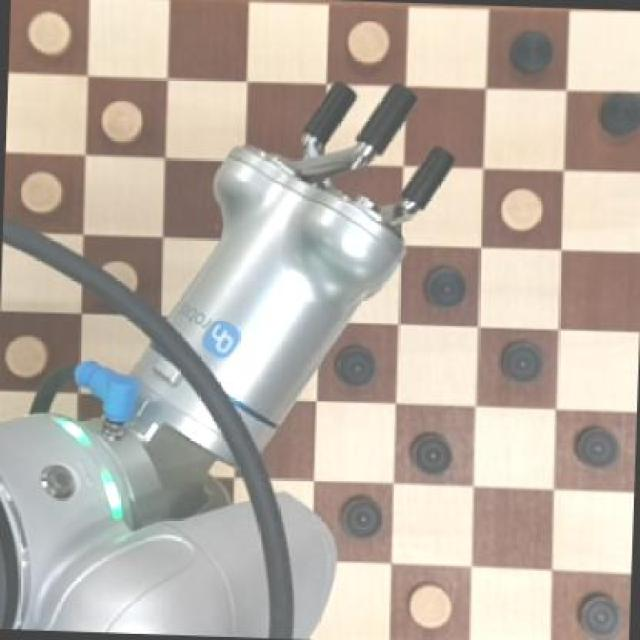black: (570, 424, 631, 478), (400, 423, 458, 475), (506, 22, 559, 78), (494, 332, 546, 386), (414, 262, 468, 312), (575, 588, 628, 636), (336, 490, 383, 541), (592, 90, 640, 138), (332, 346, 378, 388)
white: (495, 183, 548, 239), (407, 579, 460, 634), (341, 15, 393, 70), (16, 166, 67, 219), (25, 8, 76, 59), (3, 331, 52, 383), (96, 98, 147, 145)
